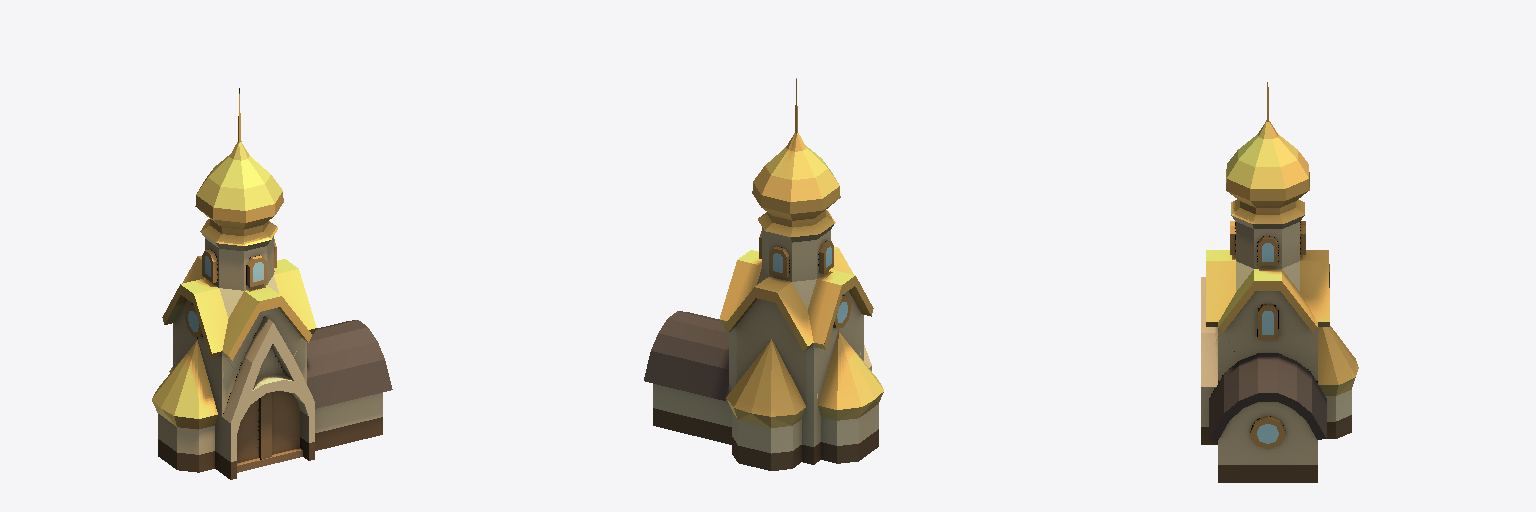
3 renders of one model, left to right at view 1: azimuth 30°, elevation 25°; view 2: azimuth 150°, elevation 25°; view 3: azimuth 270°, elevation 25°, orthographic.
Visible parts, largest first — view 1: church; view 2: church; view 3: church.
Boxes of the visible parts, x1=… form: church: x1=152, y1=88, x2=392, y2=479; church: x1=644, y1=78, x2=883, y2=470; church: x1=1201, y1=82, x2=1358, y2=482.
Size of the model in its own units: 1.5 by 2.55 by 1.01.
Materials: 1 (1 with a texture image).